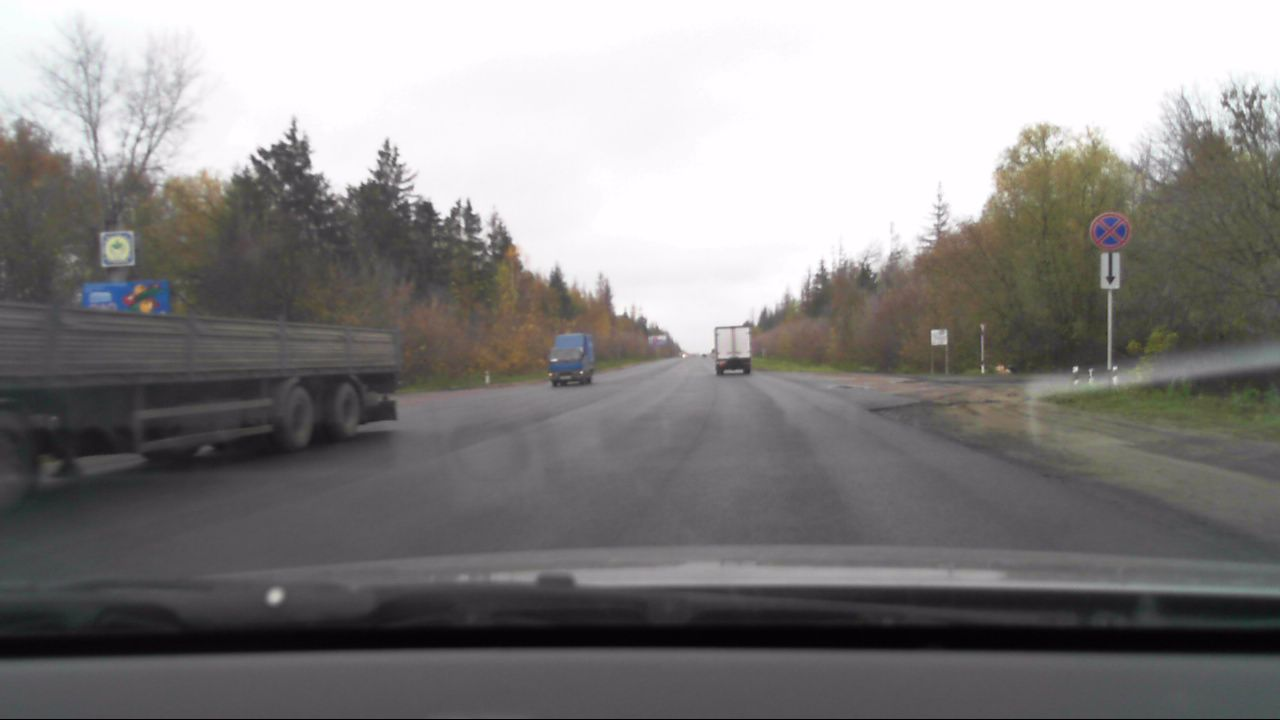No Parking: (1089, 212, 1130, 251)
